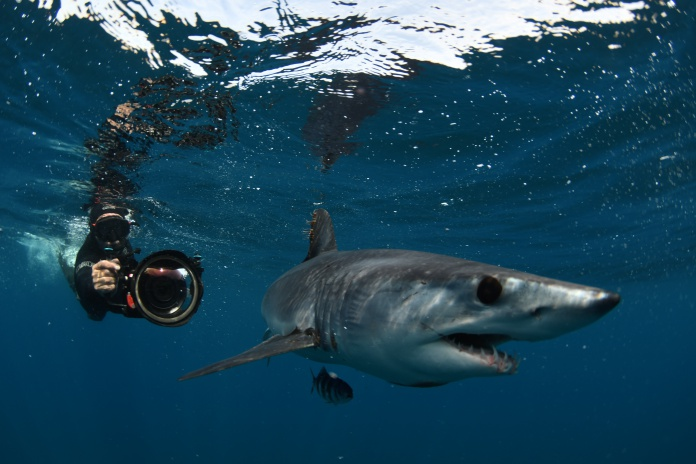Mako: (155, 201, 631, 413)
